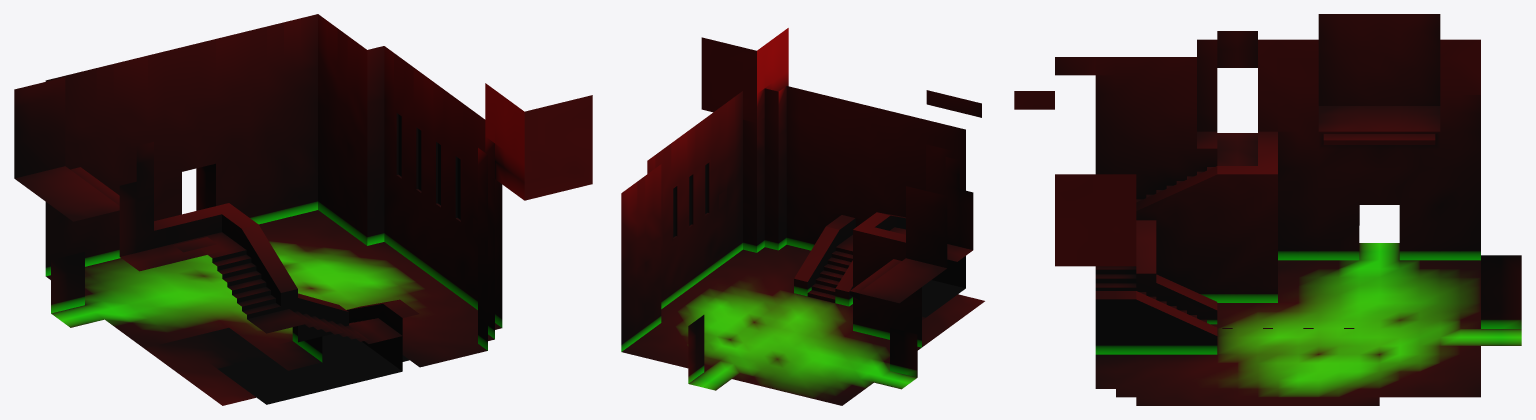
File: castle_yard_1_no_specular.glb
3 renders of one model, left to right at view 1: azimuth 30°, elevation 25°; view 2: azimuth 150°, elevation 25°; view 3: azimuth 270°, elevation 25°, orthographic. The views are drawn at different scales.
Visible parts, largest first — view 1: UpperWallRemade, Floor, Stairs, WallBackface_1; view 2: UpperWallRemade, Floor, Stairs, WallBackface_1; view 3: UpperWallRemade, Floor, Stairs.
Part boxes in pixels (bbox=[...]): UpperWallRemade: bbox=[14, 14, 592, 371]; Floor: bbox=[46, 210, 501, 405]; Stairs: bbox=[120, 232, 402, 343]; WallBackface_1: bbox=[398, 114, 460, 219]; UpperWallRemade: bbox=[621, 28, 981, 383]; Floor: bbox=[622, 244, 984, 405]; Stairs: bbox=[807, 227, 972, 302]; WallBackface_1: bbox=[673, 164, 707, 237]; UpperWallRemade: bbox=[1014, 14, 1521, 354]; Floor: bbox=[1095, 243, 1521, 405]; Stairs: bbox=[1095, 133, 1257, 327].
Size of the model in its own units: 23 by 14 by 25.
